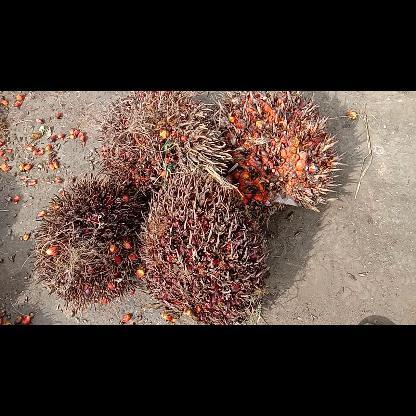Terlalu masak: (136, 168, 270, 324), (212, 90, 348, 212), (31, 175, 151, 309), (93, 90, 236, 194)
